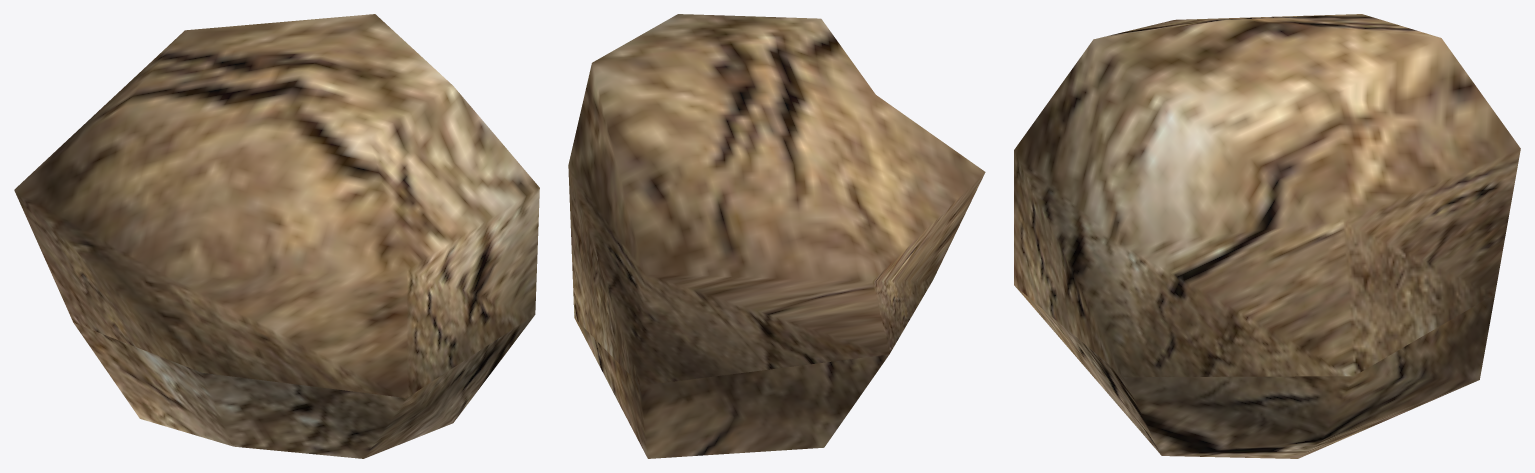
Rendered from des_boulderA.fbx.
The picture shows the model from 3 angles, left to right: view 1: azimuth 30°, elevation 25°; view 2: azimuth 150°, elevation 25°; view 3: azimuth 270°, elevation 25°; orthographic projection. The views are drawn at different scales.
Parts seen in each view (by area): view 1: Sphere.001; view 2: Sphere.001; view 3: Sphere.001.
Boxes of the visible parts, <box> form: Sphere.001: <box>14,14,539,458</box>; Sphere.001: <box>568,14,985,458</box>; Sphere.001: <box>1014,14,1520,458</box>.
Size of the model in its own units: 541 by 540 by 579.
Materials: 1 (1 with a texture image).
